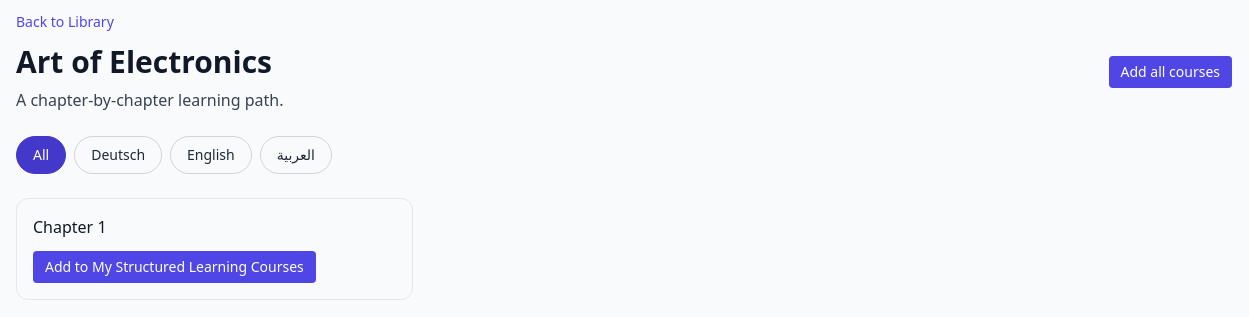
it: CourseCollectionPage › adds every community course from the collection
expect the heading "Art of Electronics" is shown: met, box x1=16 y1=44 x2=284 y2=80
Click the button "Add all courses". click: (1170, 72)
box: x1=1108 y1=56 x2=1232 y2=88
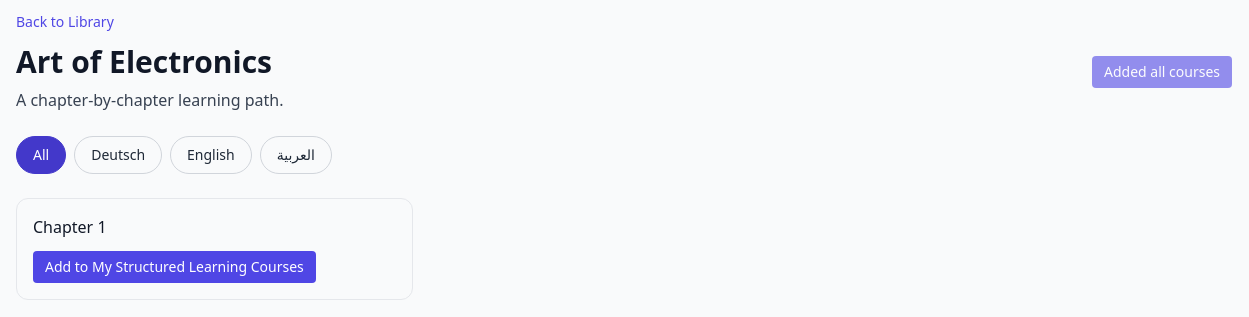
expect the button "Added all courses" is disabled: met, box x1=1092 y1=56 x2=1232 y2=88
